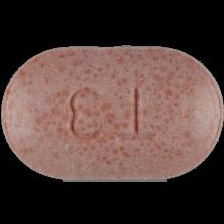63629-3217: (0, 0, 224, 224)
